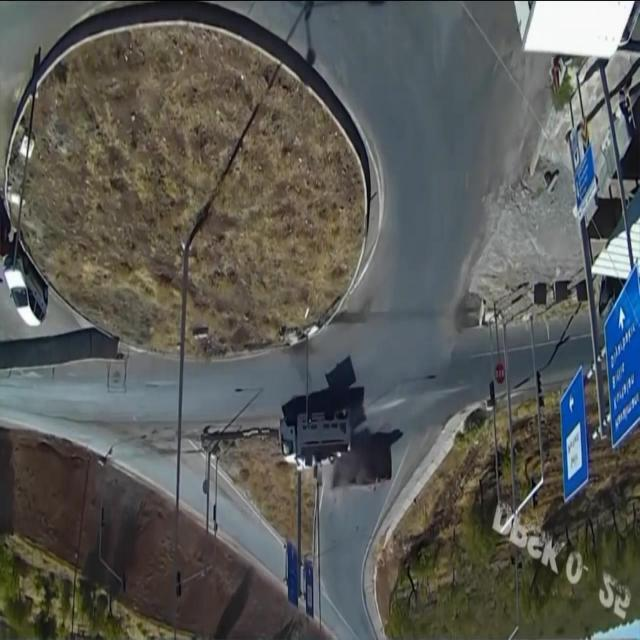person: (263, 390, 422, 502)
